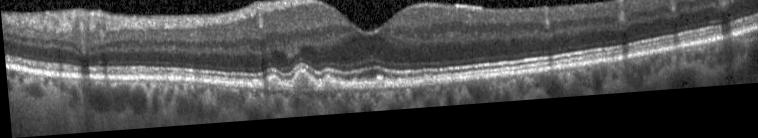retinal_drusen: (291, 76, 311, 96), (264, 80, 279, 96), (321, 84, 335, 94), (421, 81, 431, 90), (374, 85, 383, 94)
